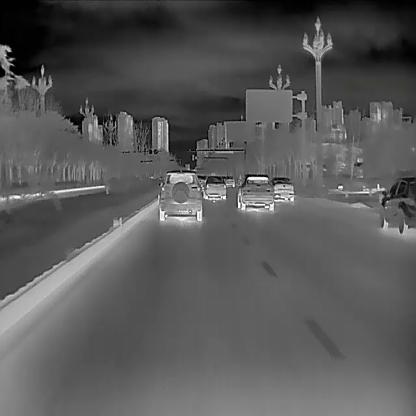car: (157, 170, 202, 219), (380, 176, 416, 232), (237, 173, 274, 211), (202, 174, 226, 199), (270, 176, 294, 200), (223, 174, 234, 186), (196, 173, 206, 186)
